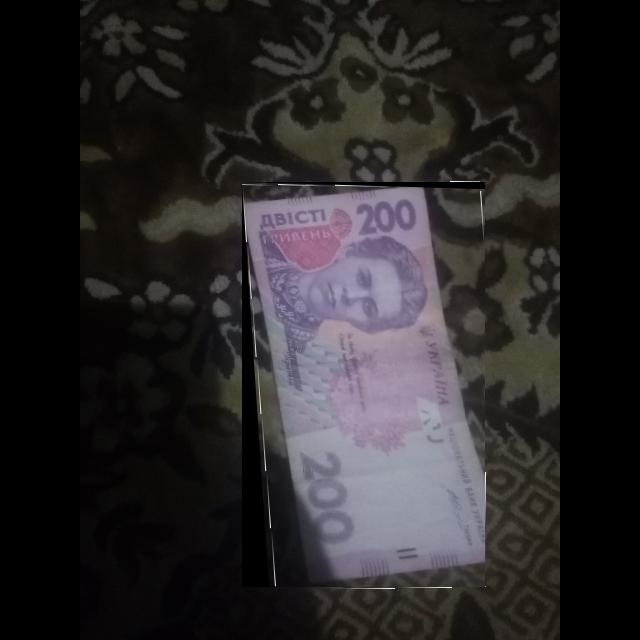200uah: (244, 187, 486, 588)
